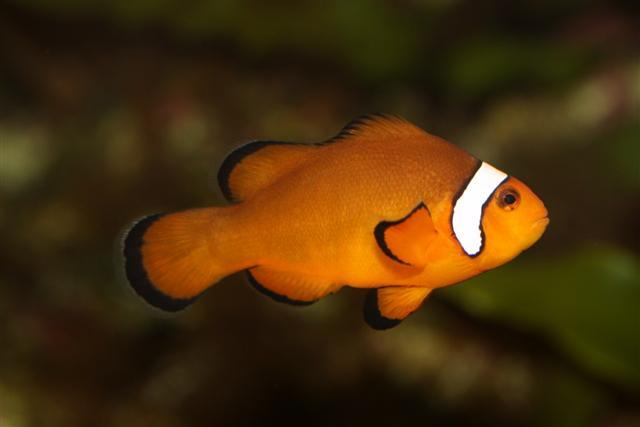Mulut: (522, 186, 576, 250)
Sirip Anal: (232, 243, 320, 301)
Sirip Dada: (362, 191, 452, 276)
Sirip Ekor: (97, 190, 211, 318)
Sirip Perut: (357, 278, 435, 336)
Sirip Punggung: (209, 93, 431, 203)
